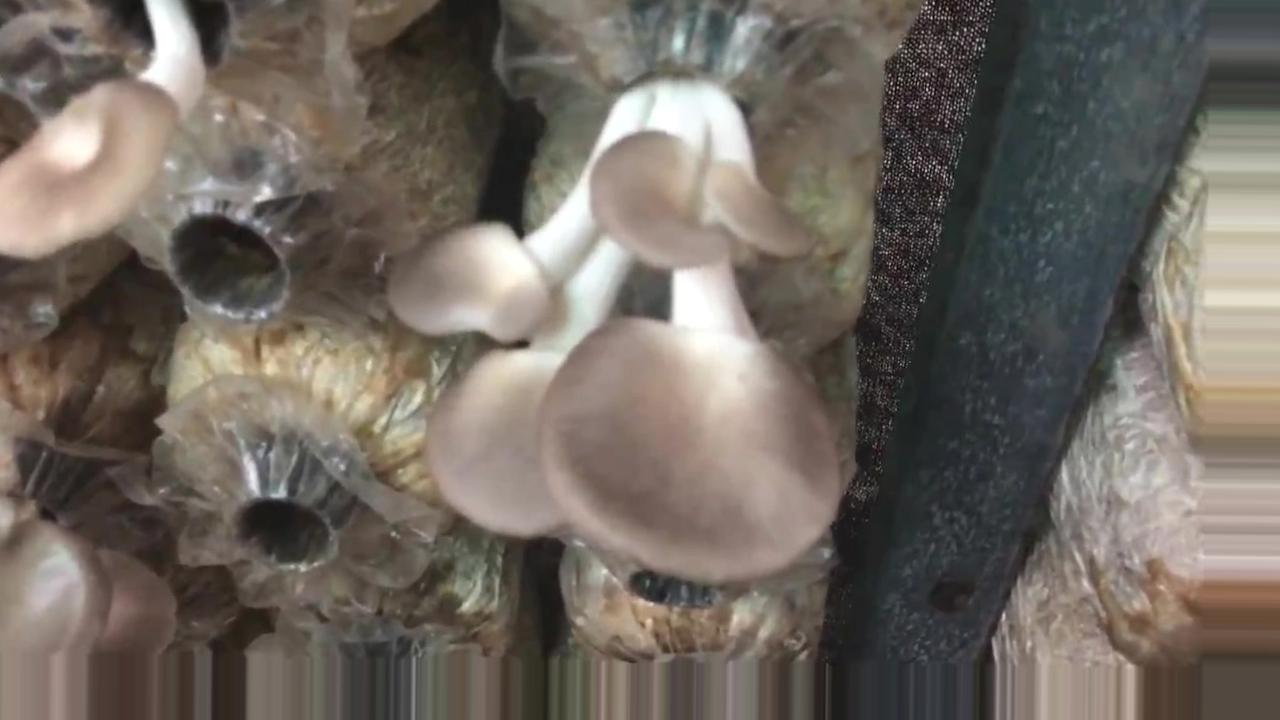nam: (387, 1, 845, 585), (1, 1, 234, 262)
